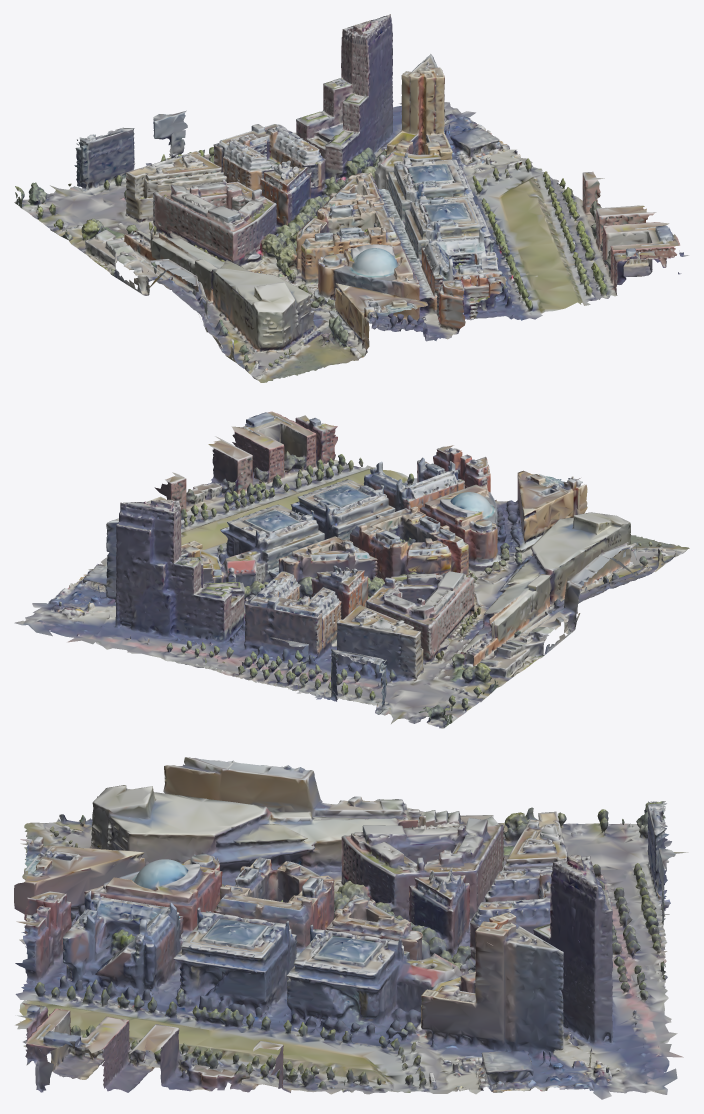
The model's file is surface-detail-3894_58185.glb.
3 renders of one model, top to bottom at view 1: azimuth 30°, elevation 25°; view 2: azimuth 150°, elevation 25°; view 3: azimuth 270°, elevation 25°, orthographic. The views are drawn at different scales.
Parts seen in each view (by area): view 1: world; view 2: world; view 3: world.
Boxes of the visible parts, x1=… form: world: x1=14, y1=14, x2=688, y2=382; world: x1=14, y1=411, x2=689, y2=728; world: x1=14, y1=757, x2=688, y2=1099.
Size of the model in its own units: 377 by 110 by 383.
